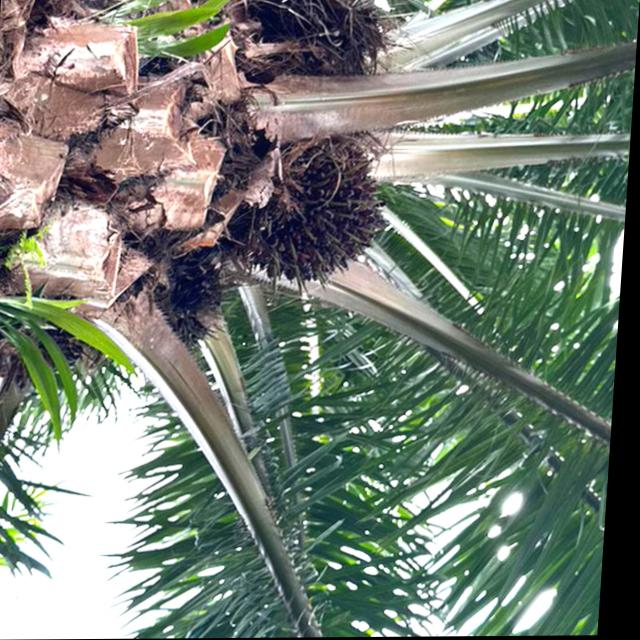almost: (236, 129, 403, 298)
